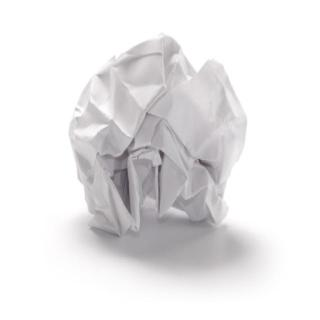Anorganik: (62, 26, 250, 252)
